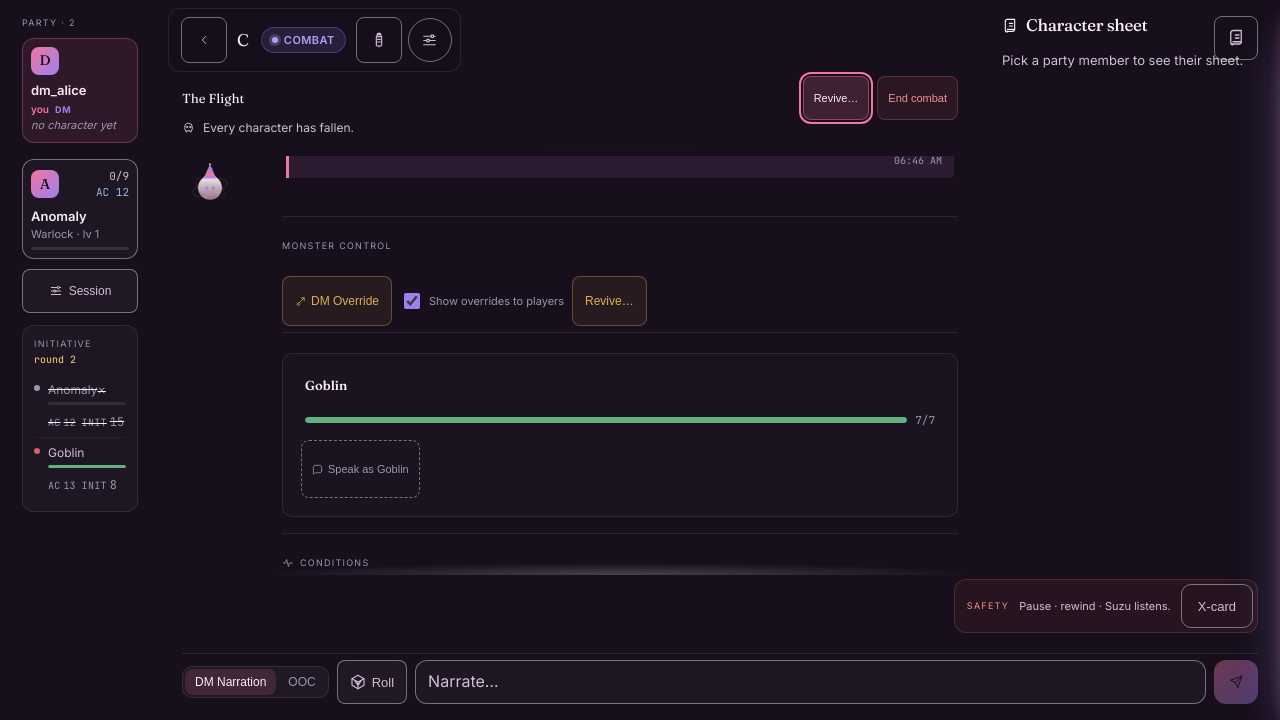
Test: PIN-9 (F08): on the real page, a revive from the strip puts focus on the scene head when its opener has gone › held -> Revive… -> applied -> the fight runs again: the scene head, never <body>
(page scrolled)
expect the text "Every character has fallen." is shown: met, box [182,120,354,135]
Click the button "Revive…" in the row of "The Flight" at {"x": 836, "y": 98}, box [803,76,869,120]
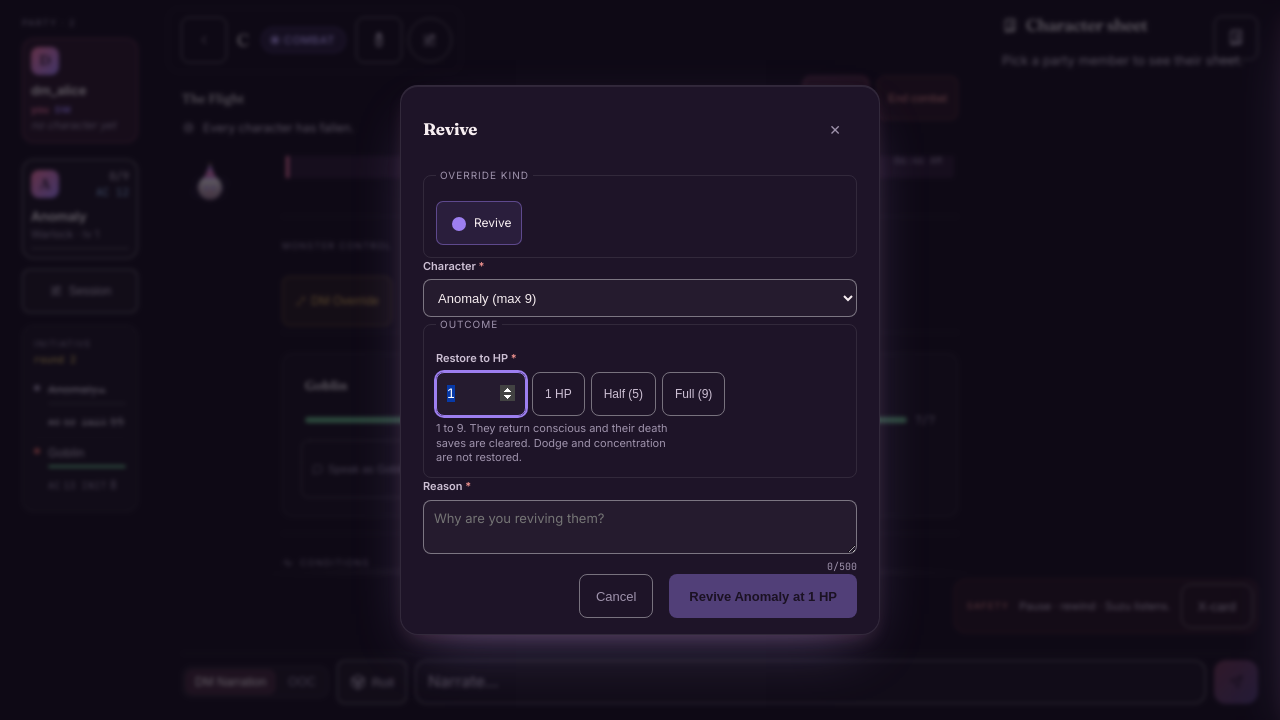
Type "prayer" into the text box labelled "Reason *" at {"x": 640, "y": 527}, box [423,500,857,554]
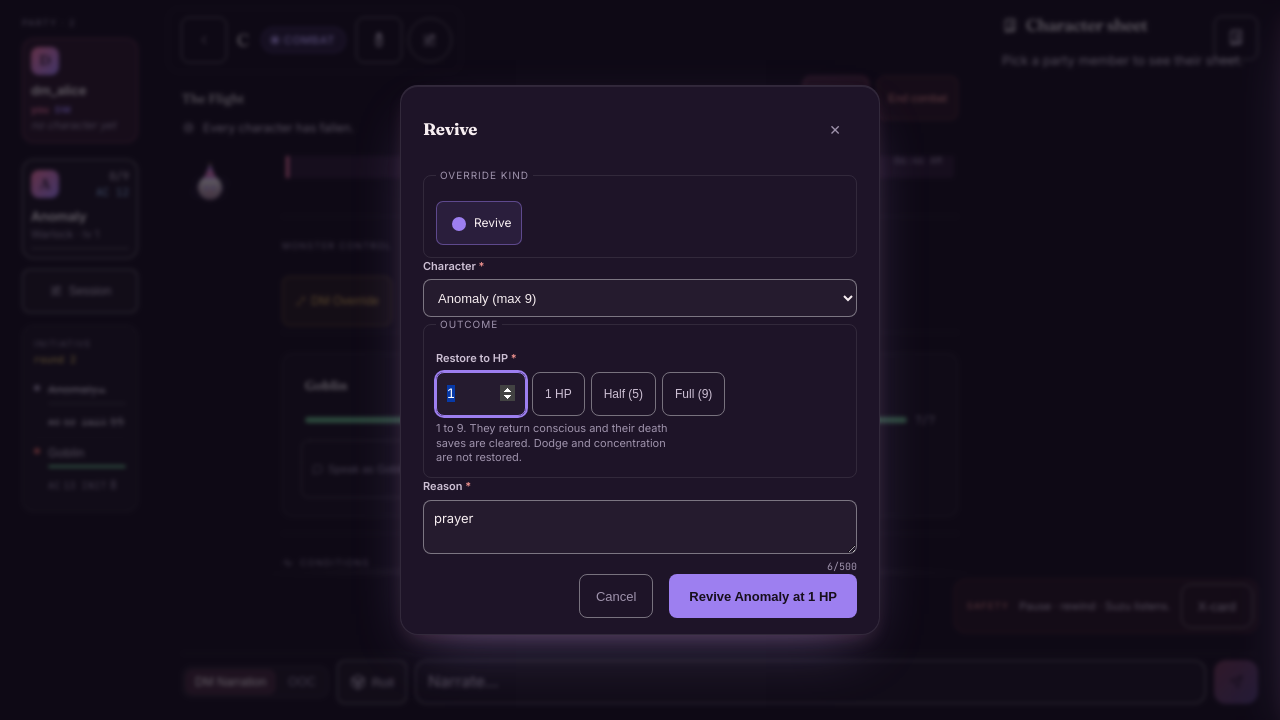
Click the submit button at {"x": 763, "y": 596}, box [669,574,857,618]
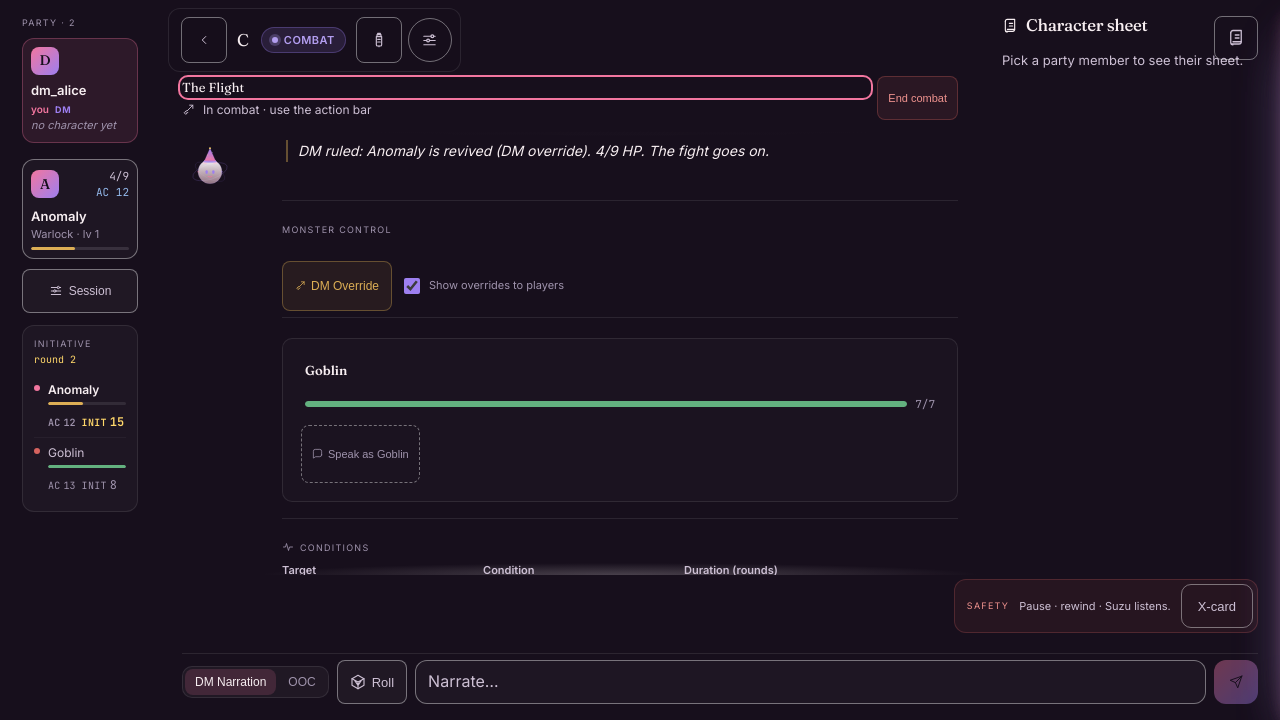
expect the dialog is gone: met
expect the button "Revive…" is gone: met
